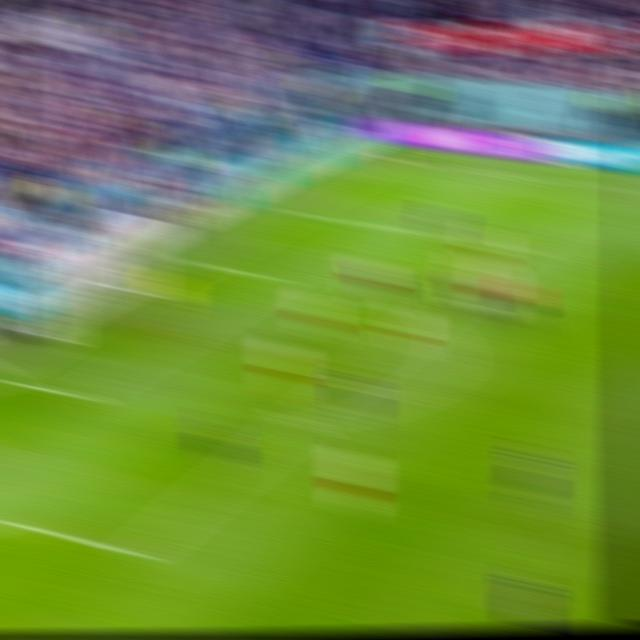bigarea_bottom_inner: (115, 535, 158, 572)
bigarea_top_inner: (503, 234, 539, 258)
bigarea_top_outter: (271, 199, 307, 222)
bottom_arc_area_intersection: (279, 408, 320, 436)
corner: (364, 148, 402, 166)
smallarea_bottom_inner: (60, 377, 103, 412)
smallarea_bottom_outter: (0, 360, 11, 390)
smallarea_top_inner: (253, 263, 292, 289)
smallarea_top_outter: (179, 250, 214, 276)
top_arc_area_intersection: (415, 303, 452, 329)
